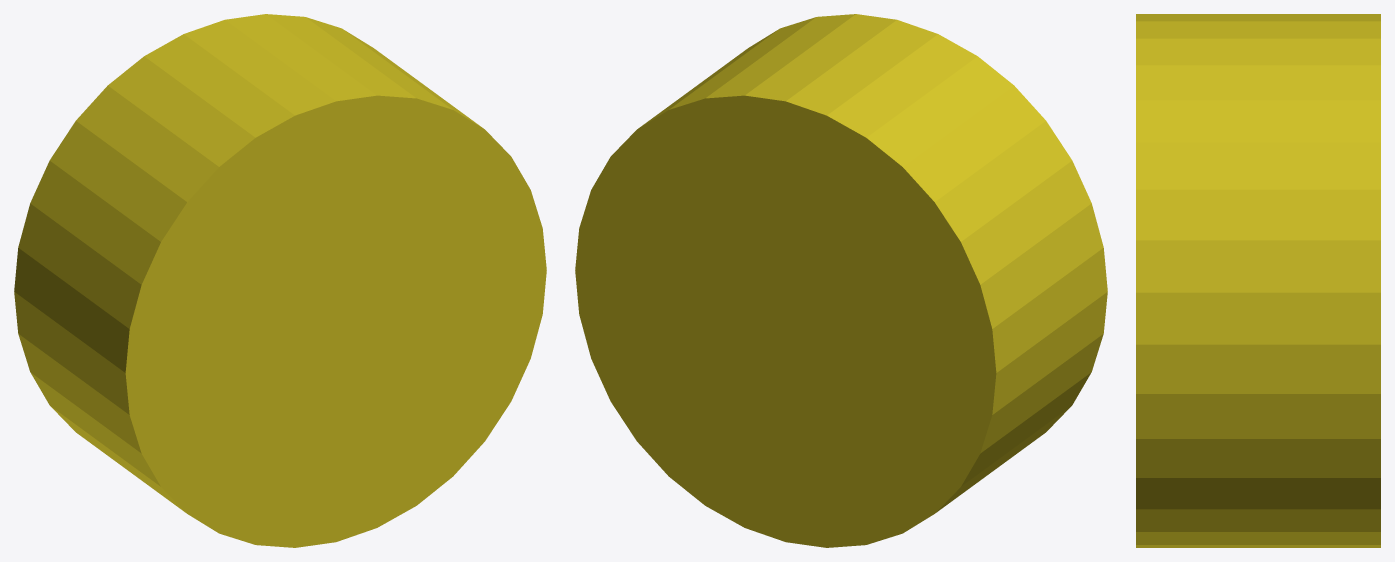
The model's file is outer_tire.dae.
3 renders of one model, left to right at view 1: azimuth 30°, elevation 25°; view 2: azimuth 150°, elevation 25°; view 3: azimuth 270°, elevation 25°, orthographic. The views are drawn at different scales.
Parts seen in each view (by area): view 1: Cylinder; view 2: Cylinder; view 3: Cylinder.
Part boxes in pixels (x1,y1,x2,y2): Cylinder: (14, 14, 546, 547); Cylinder: (575, 14, 1107, 547); Cylinder: (1136, 14, 1380, 547).
Bounding box in the file's own units: 0.12 × 0.055 × 0.12.
